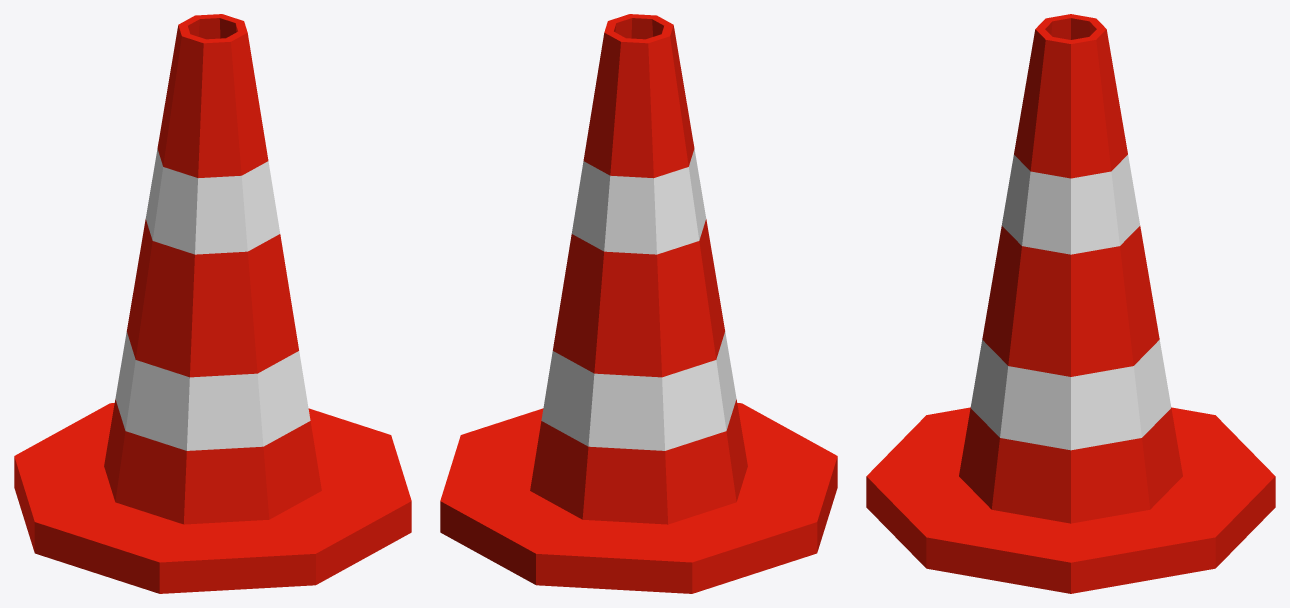
File: trafficCone.obj
The picture shows the model from 3 angles, left to right: view 1: azimuth 30°, elevation 25°; view 2: azimuth 150°, elevation 25°; view 3: azimuth 270°, elevation 25°; orthographic projection.
Visible parts, largest first — view 1: traffic_cone; view 2: traffic_cone; view 3: traffic_cone.
Part boxes in pixels (left/top/right/bottom): traffic_cone: left=14, top=14, right=411, bottom=593; traffic_cone: left=440, top=14, right=837, bottom=593; traffic_cone: left=866, top=14, right=1275, bottom=593.
Size of the model in its own units: 1.31 by 1.68 by 1.31.
